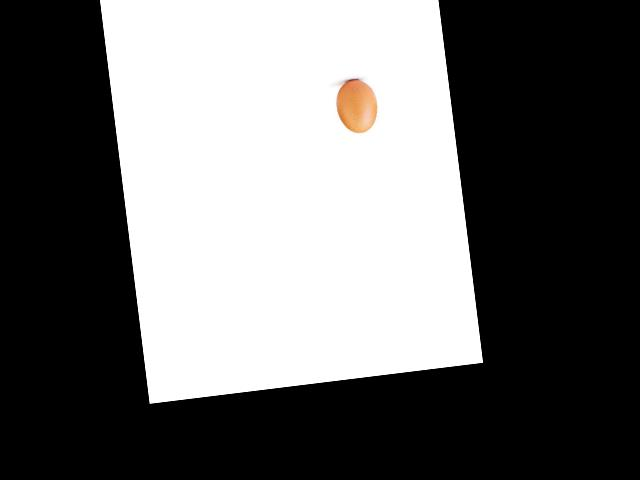egg: (333, 77, 379, 134)
